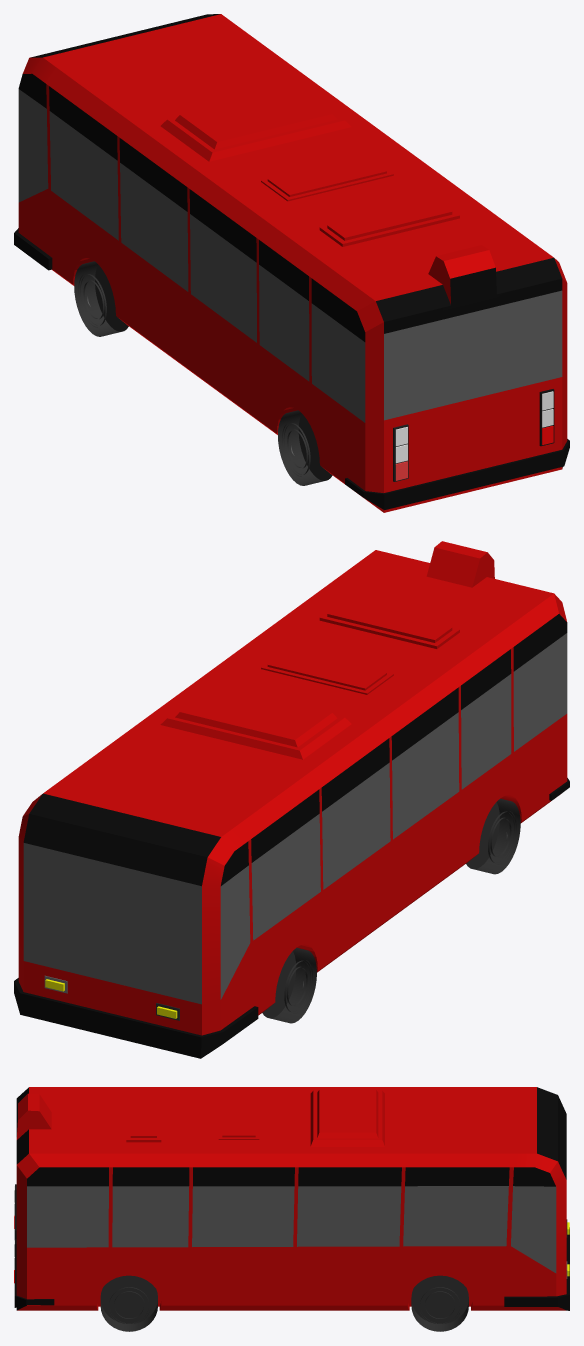
Rendered from Bus.fbx.
3 views of the same model, one above another, from view 1: azimuth 30°, elevation 25°; view 2: azimuth 150°, elevation 25°; view 3: azimuth 270°, elevation 25° (orthographic). The views are drawn at different scales.
Parts seen in each view (by area): view 1: Bus Body, Bus Parts; view 2: Bus Body, Bus Parts; view 3: Bus Body, Bus Parts.
Boxes of the visible parts, box(x1,y1,x2,y2) form: Bus Body: box(18, 14, 567, 512); Bus Parts: box(14, 14, 569, 510); Bus Body: box(18, 541, 567, 1035); Bus Parts: box(14, 614, 569, 1058); Bus Body: box(16, 1087, 566, 1310); Bus Parts: box(14, 1087, 569, 1331).
Size of the model in its own units: 2.93 by 3.33 by 8.74.
2 materials, 1 textured.
